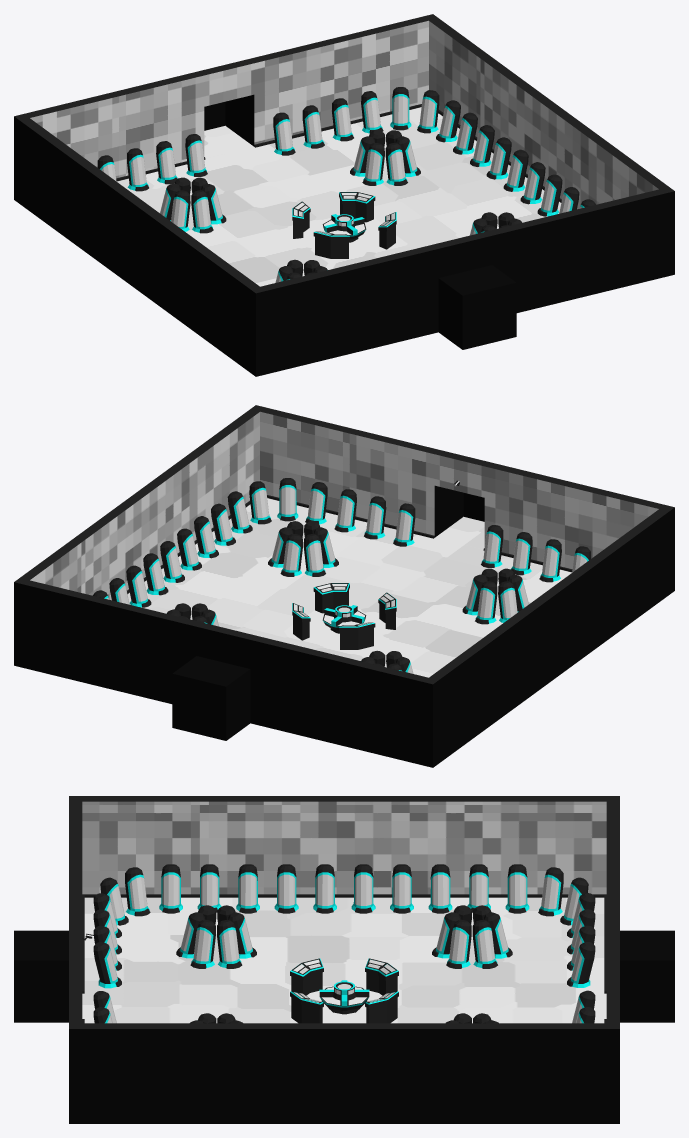
Rendered from Hibernation_Room_1x1x2.fbx.
The picture shows the model from 3 angles, top to bottom: view 1: azimuth 30°, elevation 25°; view 2: azimuth 150°, elevation 25°; view 3: azimuth 270°, elevation 25°; orthographic projection. The views are drawn at different scales.
Visible parts, largest first — view 1: Hibernation_Room_1x1x2; view 2: Hibernation_Room_1x1x2; view 3: Hibernation_Room_1x1x2.
Part boxes in pixels (x1,y1,x2,y2): Hibernation_Room_1x1x2: [14, 14, 674, 376]; Hibernation_Room_1x1x2: [14, 405, 674, 767]; Hibernation_Room_1x1x2: [14, 796, 674, 1123].
Bounding box in the file's own units: 42 × 50.4 × 8.
